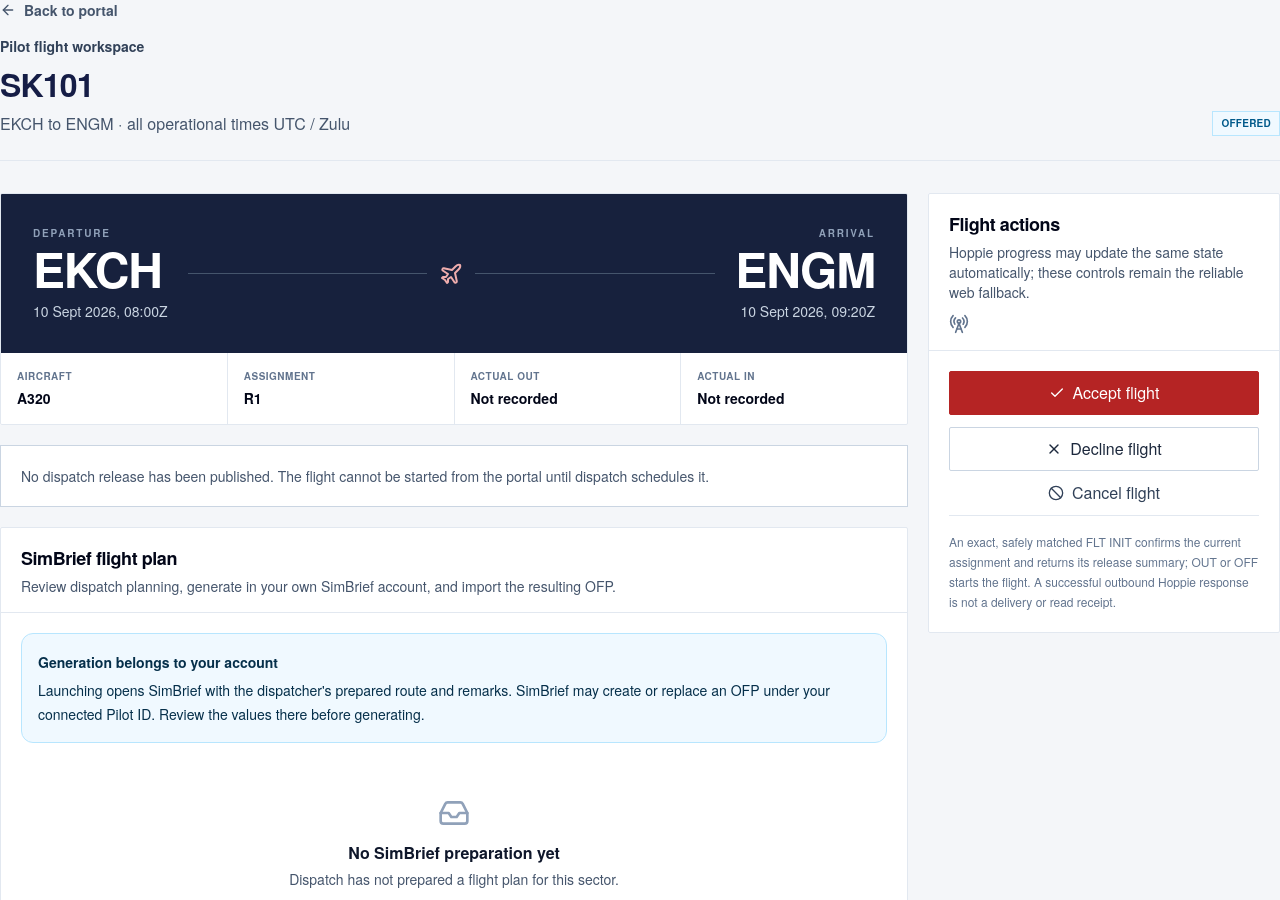
PilotFlightDetail decisions › sends an optional decline reason and advances to a read-only state
Click the button "Decline flight" at (1104, 449), box [949,427,1259,471]
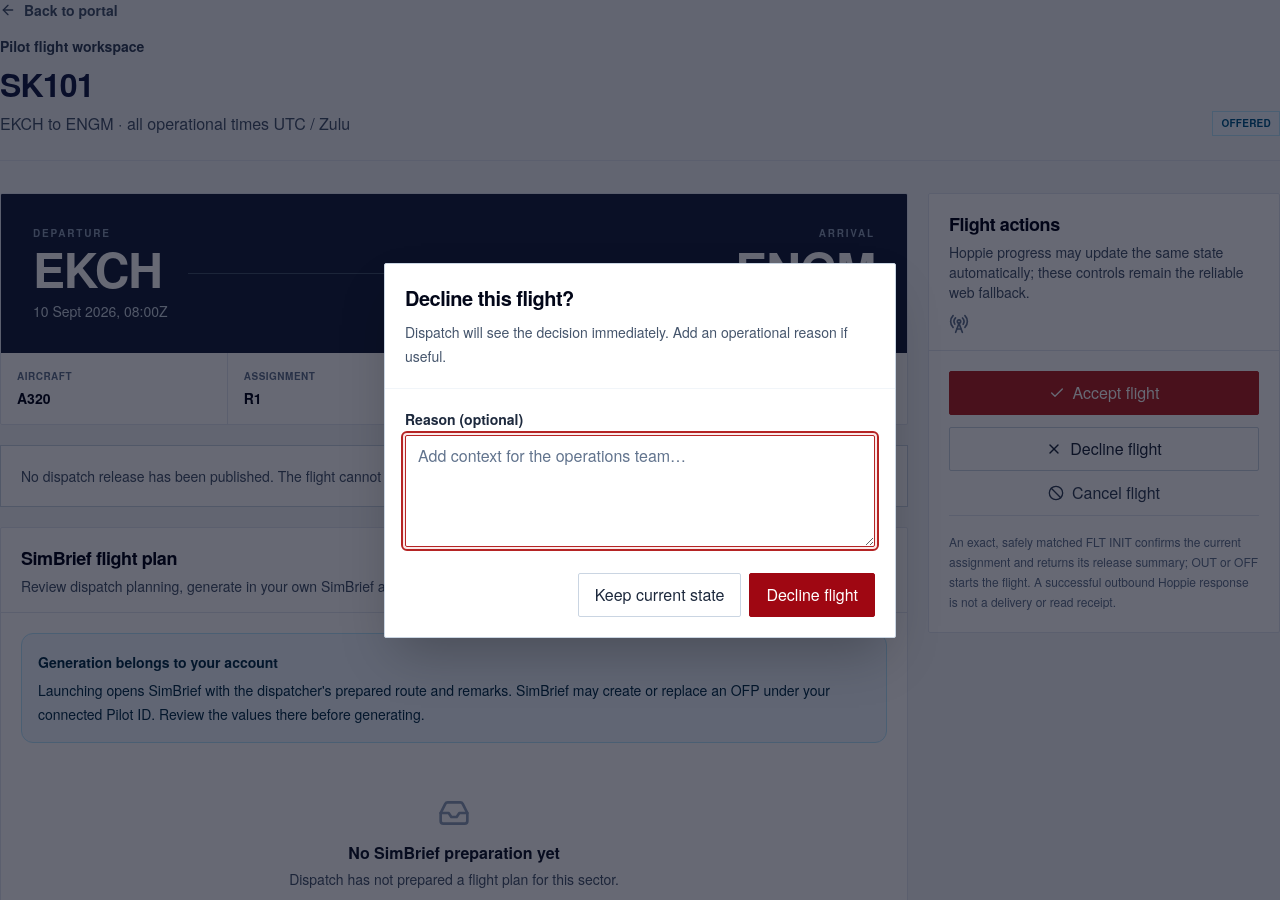
Type "Schedule conflict" into the text box labelled "Reason (optional)" at (640, 490), box [405,434,875,546]
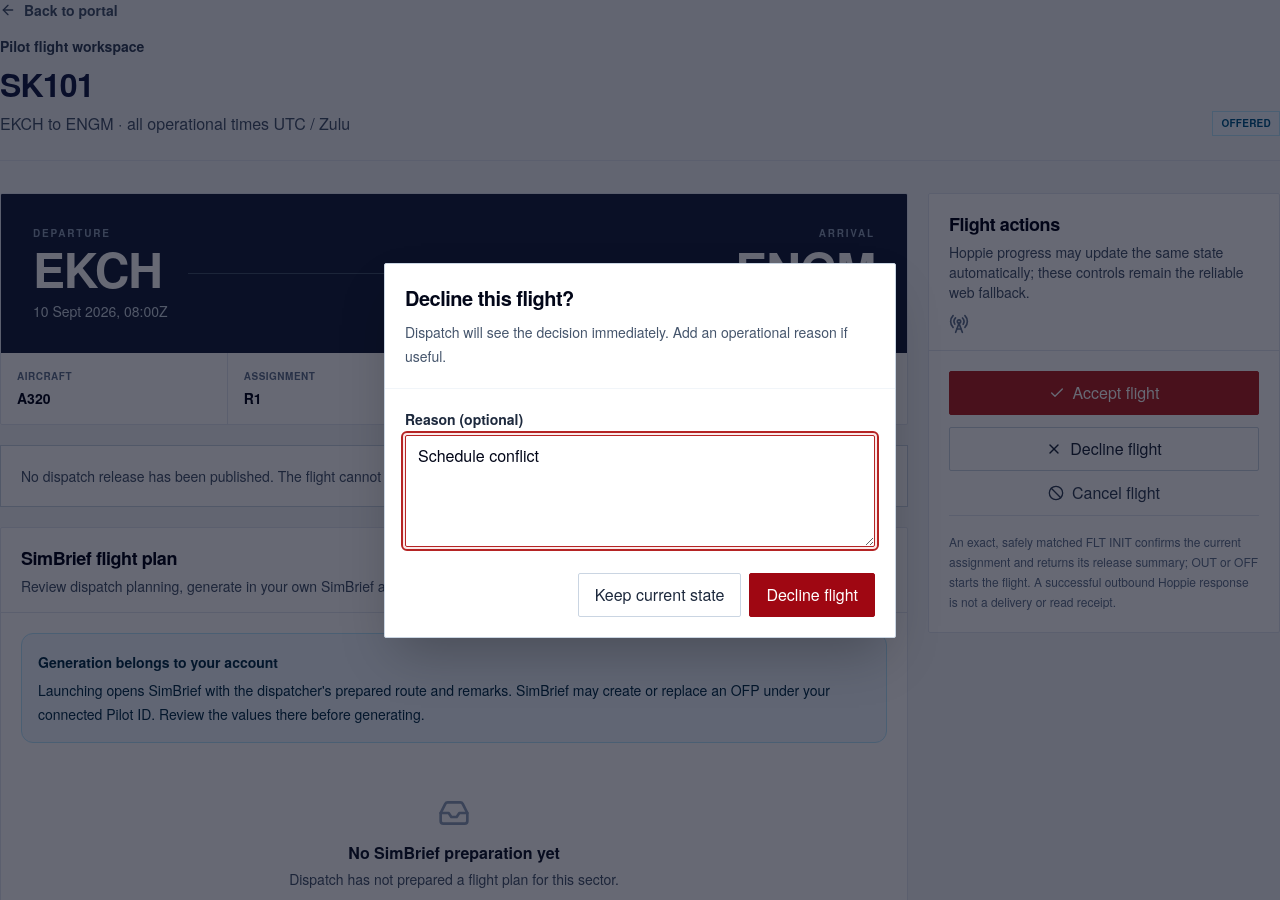
Click the button "Decline flight" at (812, 594), box [749,572,875,616]
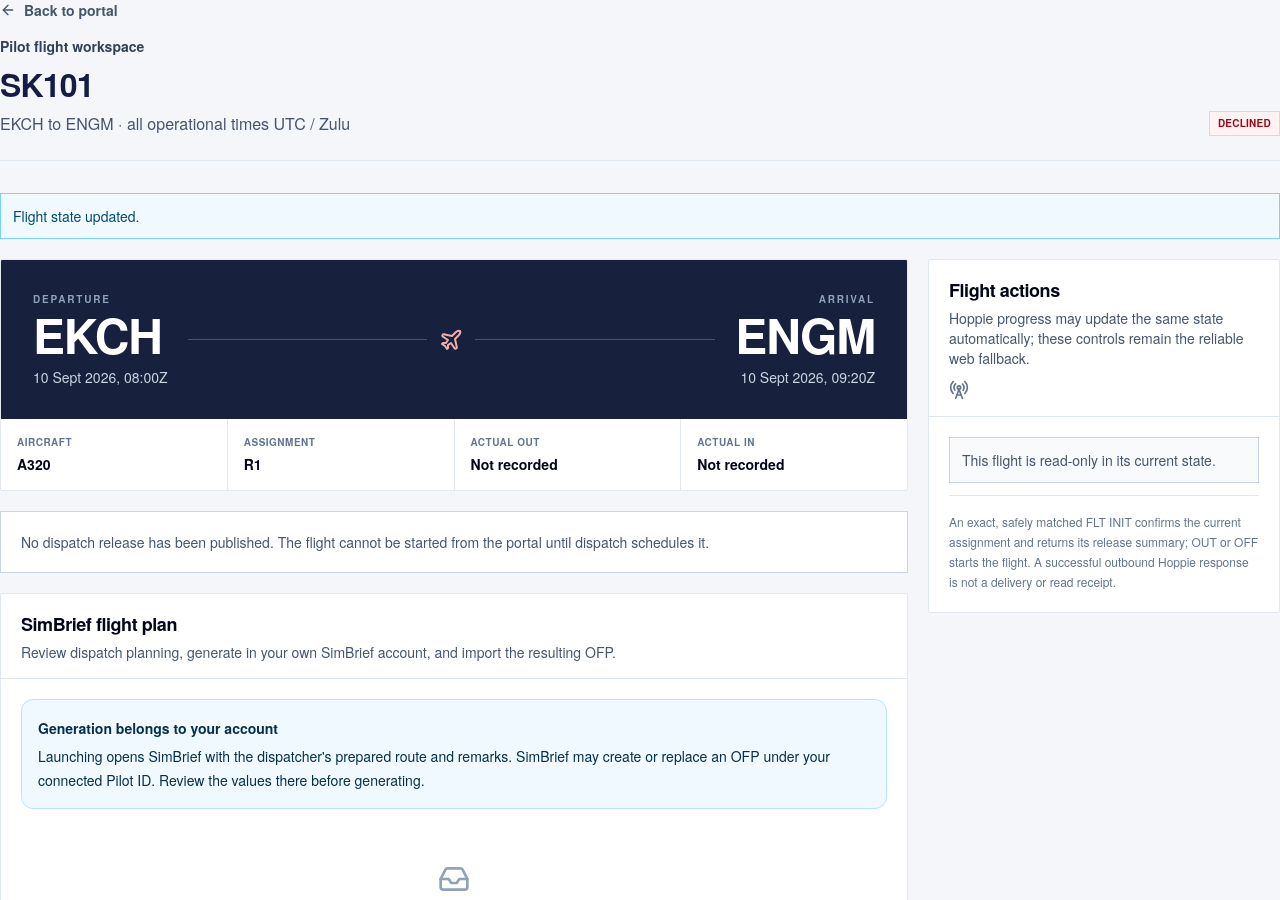
Result: the text "This flight is read-only in its current state." is shown at [949,437,1259,483]
